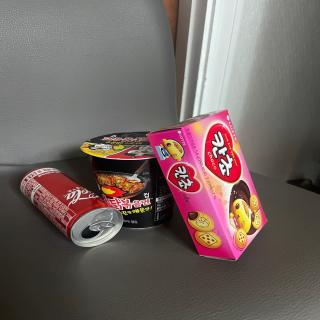cocacola: (15, 160, 125, 250)
